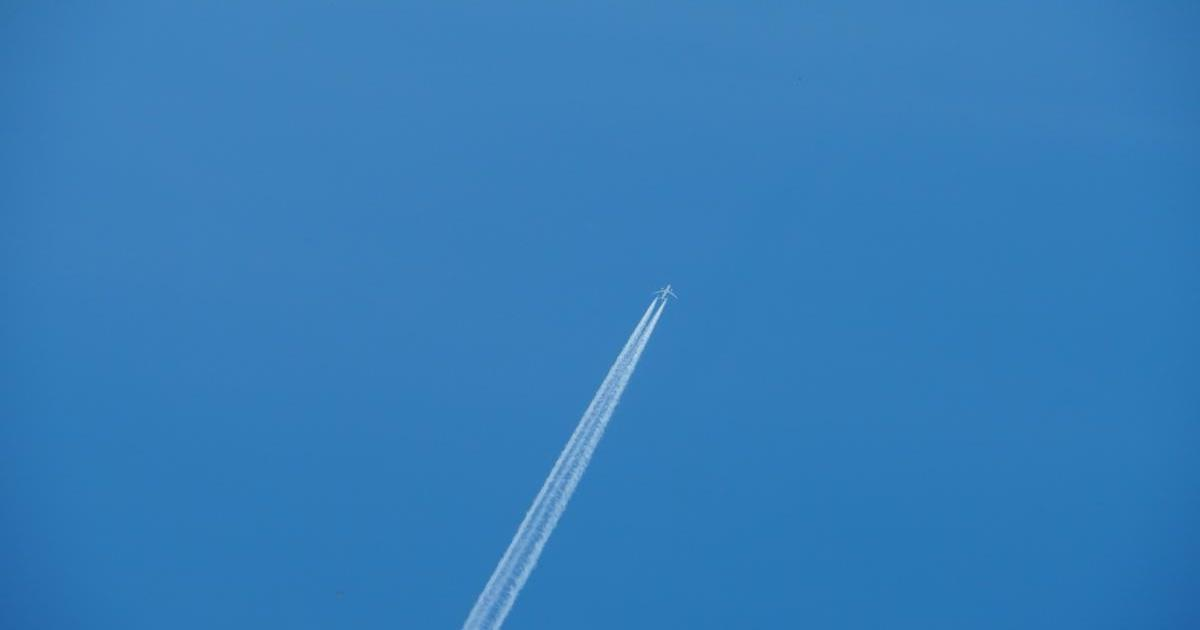Plane: (448, 235, 744, 621)
